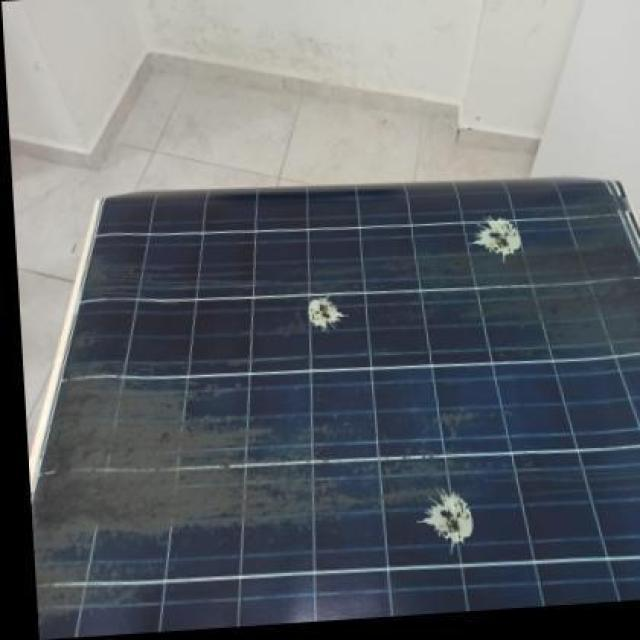soiled: (38, 181, 636, 634)
